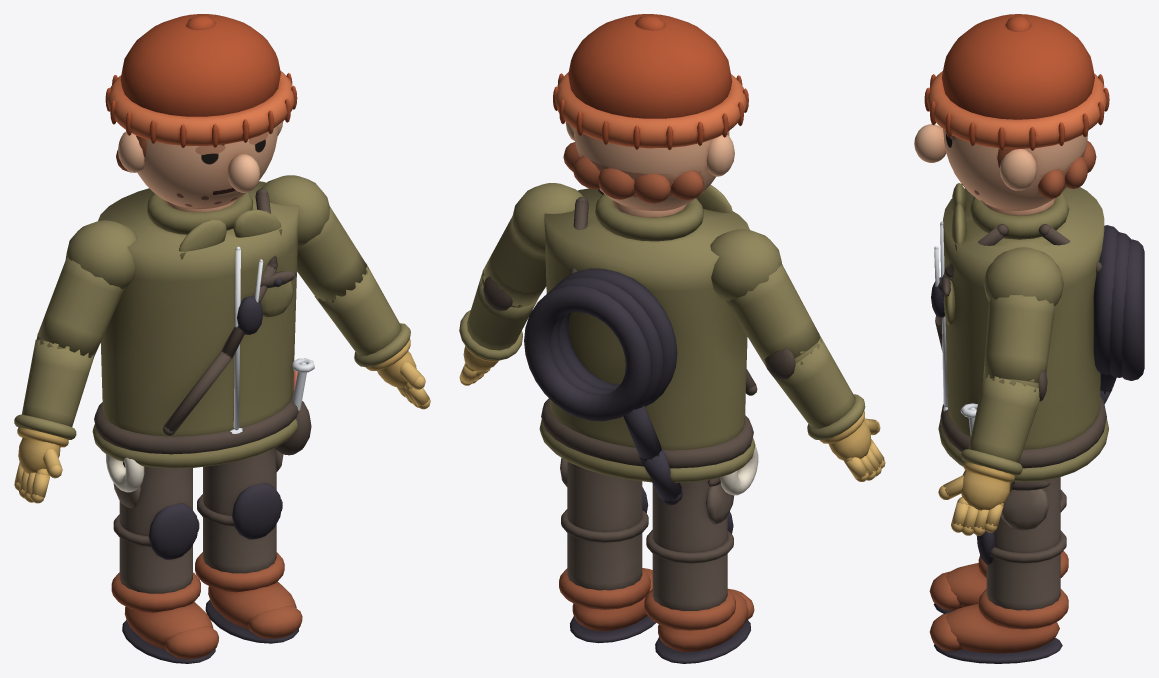
File: clown_v2_static.glb
The picture shows the model from 3 angles, left to right: view 1: azimuth 30°, elevation 25°; view 2: azimuth 150°, elevation 25°; view 3: azimuth 270°, elevation 25°; orthographic projection. The views are drawn at different scales.
Visible parts, largest first — view 1: body, head; view 2: body, head; view 3: body, head.
Part boxes in pixels (<box>): body: <box>14,14,430,663</box>; head: <box>126,125,278,208</box>; body: <box>459,14,885,663</box>; head: <box>573,128,729,210</box>; body: <box>914,14,1144,663</box>; head: <box>943,129,1087,210</box>.
Size of the model in its own units: 1.29 by 1.87 by 0.6379.
Materials: 2 (2 with a texture image).
